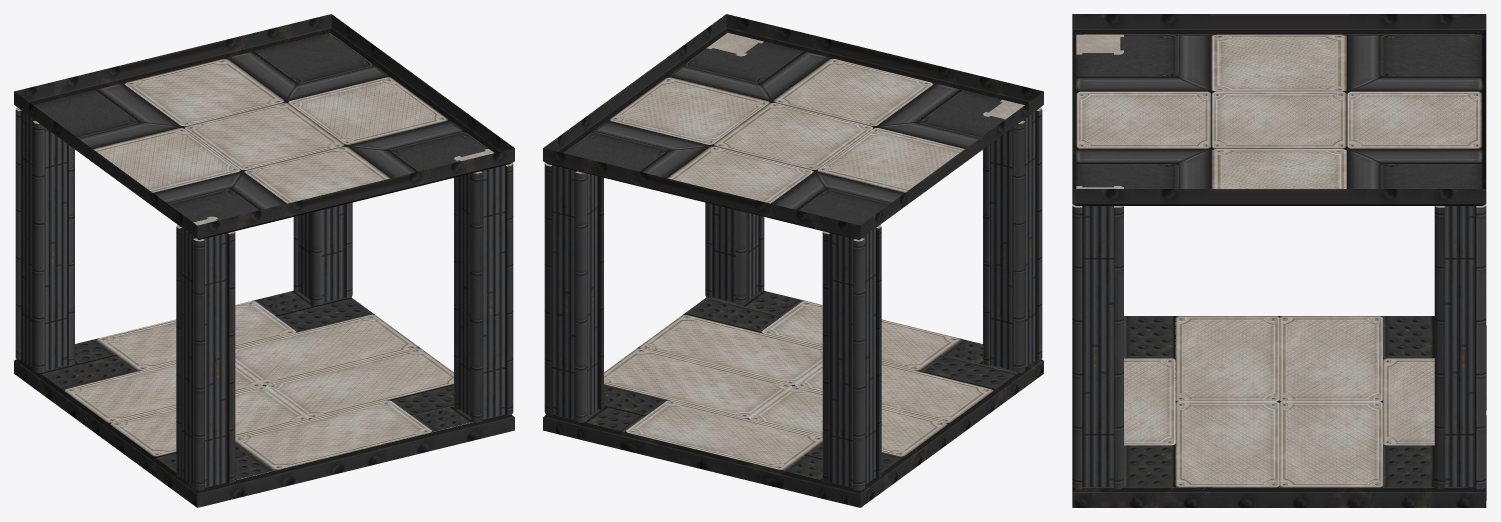
The model's file is Corridor_Crossroad_Rework.fbx.
3 renders of one model, left to right at view 1: azimuth 30°, elevation 25°; view 2: azimuth 150°, elevation 25°; view 3: azimuth 270°, elevation 25°, orthographic. The views are drawn at different scales.
Visible parts, largest first — view 1: Corridor_Crossroad_Rework; view 2: Corridor_Crossroad_Rework; view 3: Corridor_Crossroad_Rework.
Boxes of the visible parts, x1,y1,x2,y2 form: Corridor_Crossroad_Rework: (14, 14, 514, 507); Corridor_Crossroad_Rework: (543, 14, 1043, 507); Corridor_Crossroad_Rework: (1072, 14, 1486, 507).
Size of the model in its own units: 400 by 340 by 400.
